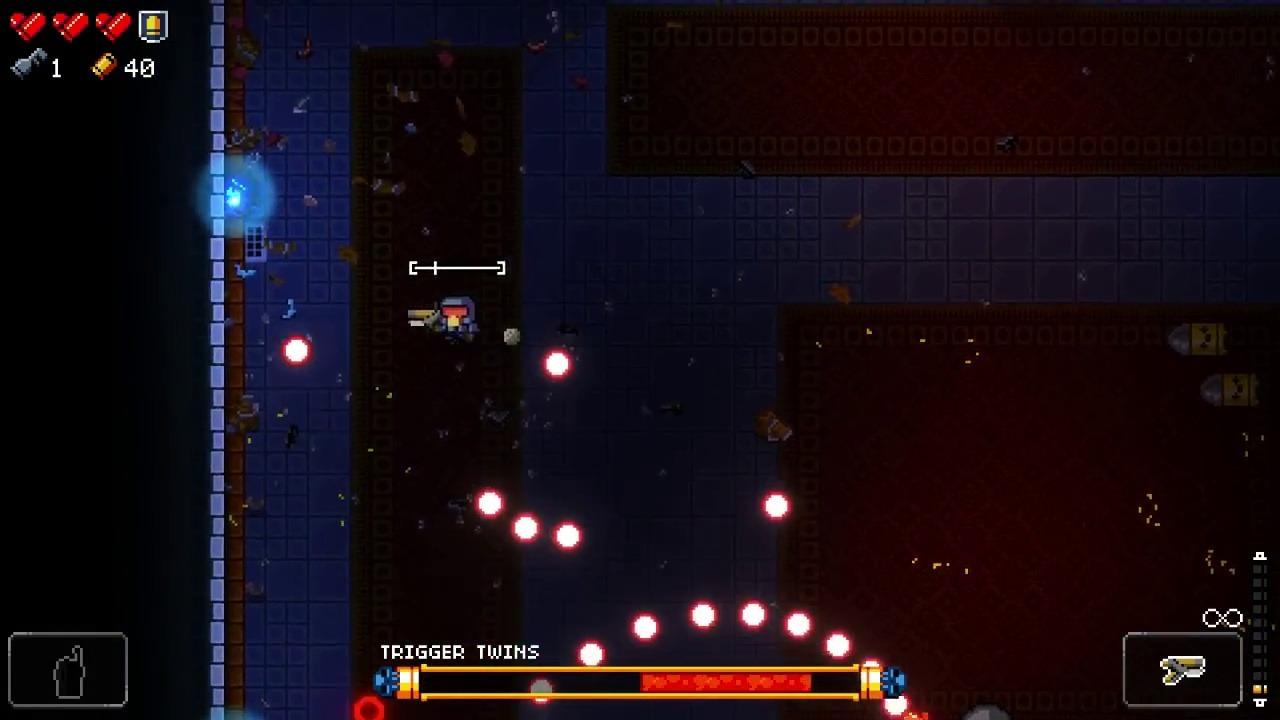bullet: (280, 335, 314, 367), (736, 599, 768, 633), (760, 494, 793, 523), (542, 347, 570, 381), (475, 491, 507, 520), (553, 522, 583, 552), (690, 600, 718, 632), (513, 516, 541, 545), (826, 632, 853, 661), (786, 613, 815, 638), (633, 613, 657, 643), (580, 638, 603, 668)
dead_bullet_kin: (1170, 323, 1229, 359), (1203, 376, 1261, 409)
player: (438, 298, 479, 346)
